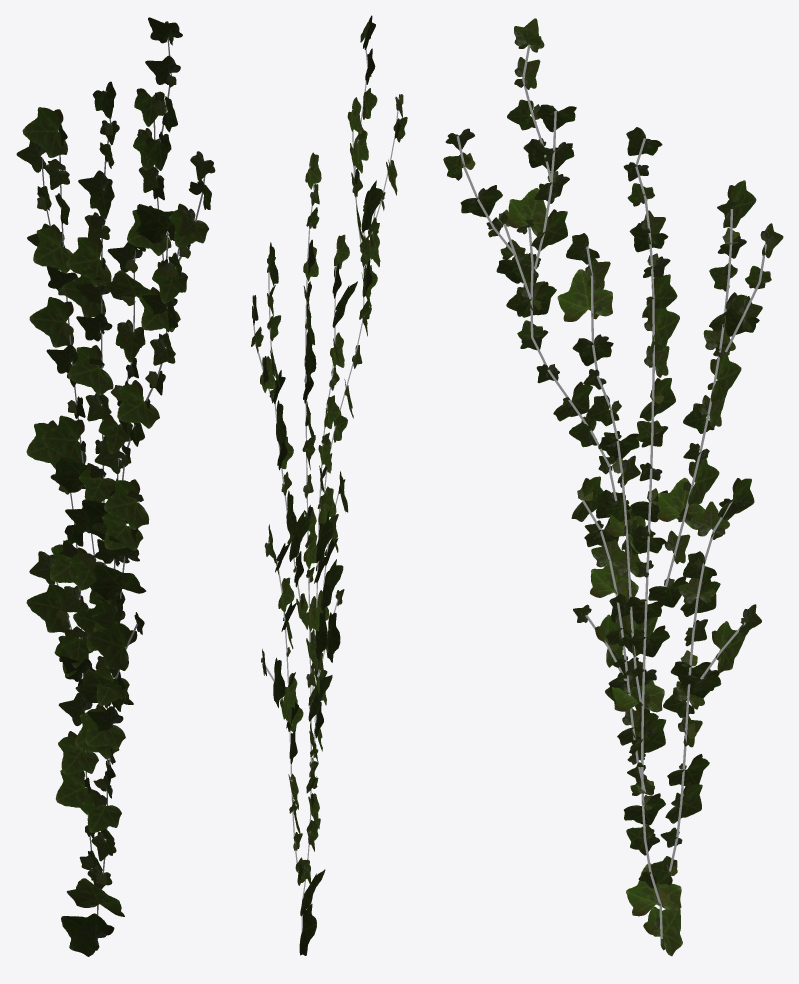
The model's file is SM_Ivy_BezierCurve_010.fbx.
The picture shows the model from 3 angles, left to right: view 1: azimuth 30°, elevation 25°; view 2: azimuth 150°, elevation 25°; view 3: azimuth 270°, elevation 25°; orthographic projection. The views are drawn at different scales.
Parts seen in each view (by area): view 1: SM_Ivy_BezierCurve_010_LOD0; view 2: SM_Ivy_BezierCurve_010_LOD0; view 3: SM_Ivy_BezierCurve_010_LOD0.
Part boxes in pixels (bbox=[...]): SM_Ivy_BezierCurve_010_LOD0: bbox=[16, 17, 215, 956]; SM_Ivy_BezierCurve_010_LOD0: bbox=[251, 15, 407, 955]; SM_Ivy_BezierCurve_010_LOD0: bbox=[443, 18, 783, 956].
Size of the model in its own units: 9.39 by 57.09 by 173.
